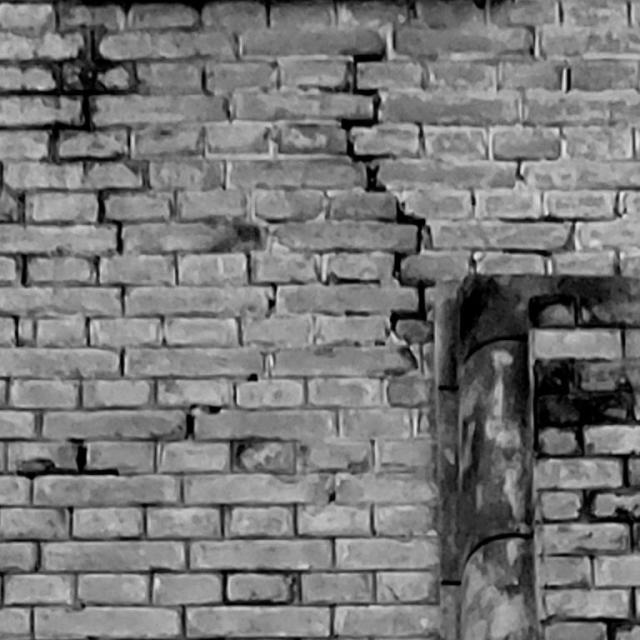crack: (339, 49, 435, 338), (185, 374, 257, 440), (15, 445, 118, 480)
